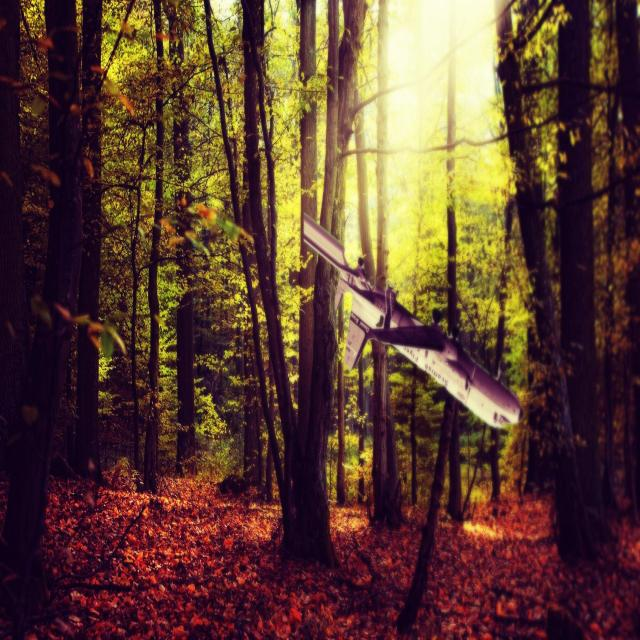airplane: (301, 211, 523, 431)
